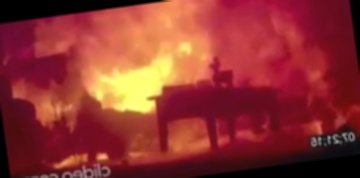fire: (0, 0, 360, 173)
